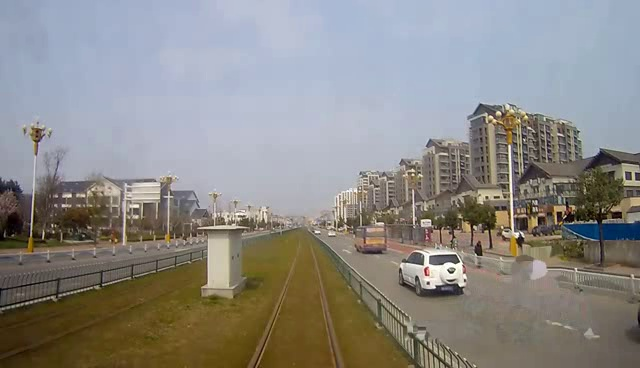bus: (355, 223, 390, 253)
car: (394, 245, 470, 297)
